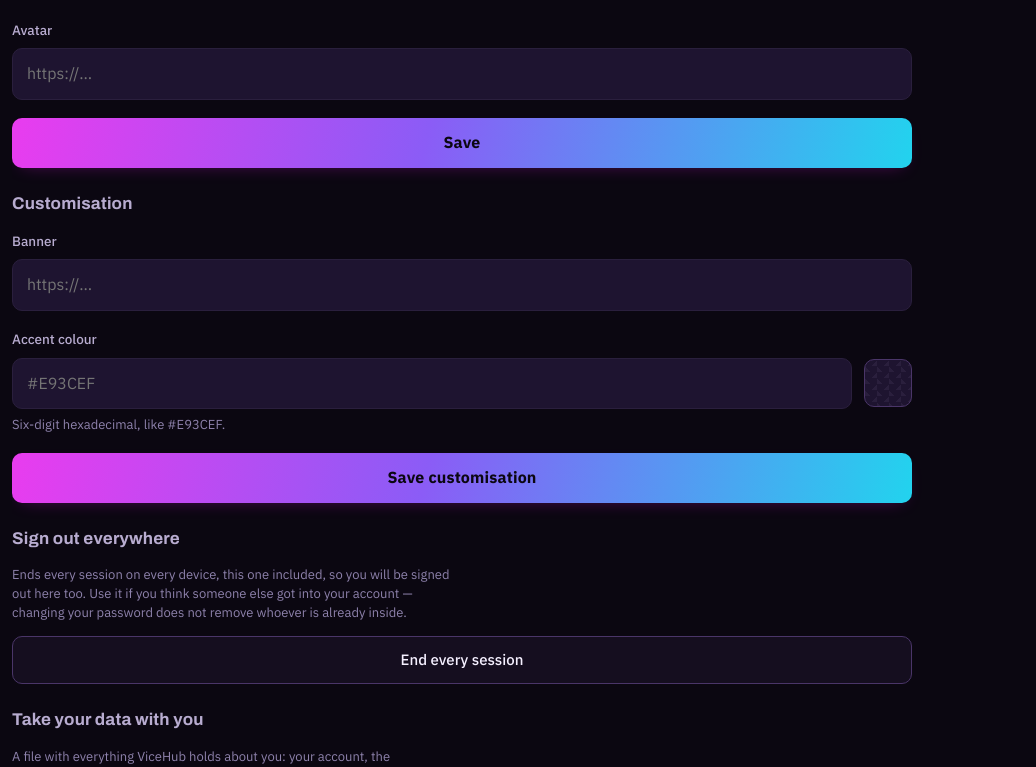
Scenario: o meu perfil › não deixa guardar uma cor mal escrita
This screenshot has width=1036, height=767.
(page scrolled)
Type "#ABC" into the field labelled "Accent colour" at (432, 383), box [12,358,852,409]
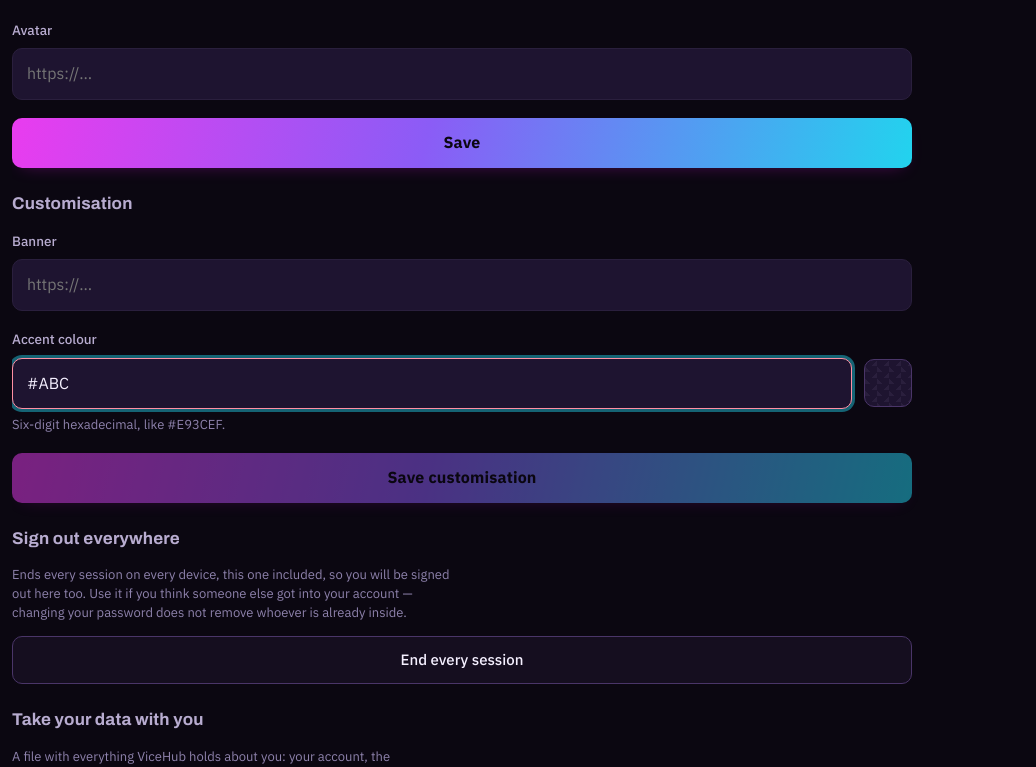
Now the button "Save customisation" is disabled, box [12,453,912,503]
